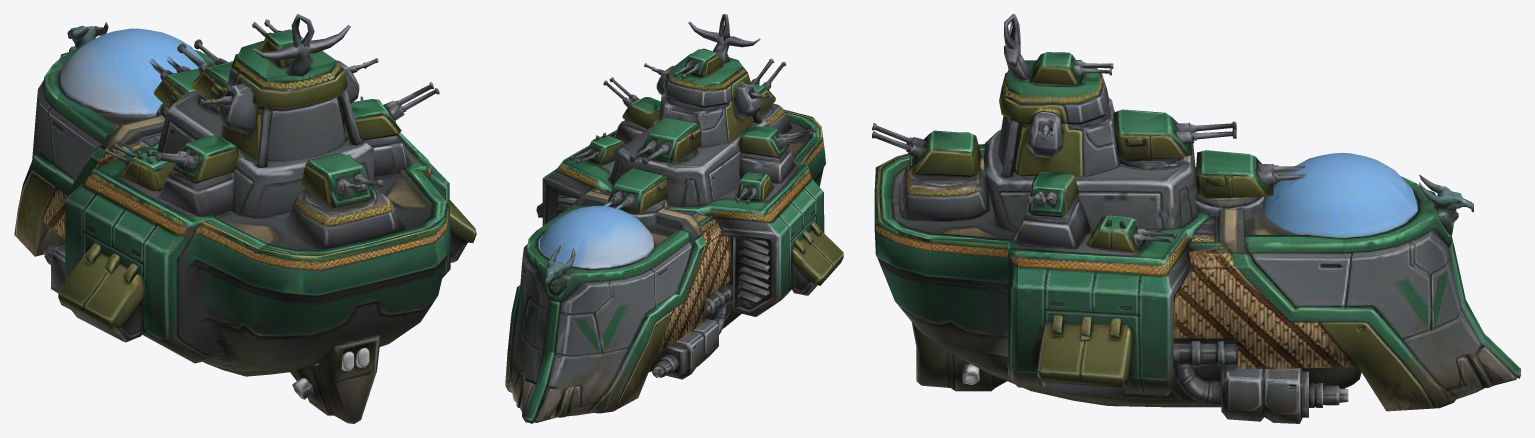
The model's file is emerald_gunboat.glb.
3 renders of one model, left to right at view 1: azimuth 30°, elevation 25°; view 2: azimuth 150°, elevation 25°; view 3: azimuth 270°, elevation 25°, orthographic. The views are drawn at different scales.
Parts seen in each view (by area): view 1: Body, Trim, Turret; view 2: Body, Turret, Trim; view 3: Body, Trim, Turret.
Boxes of the visible parts, x1=… form: Body: x1=14, y1=14, x2=476, y2=423; Trim: x1=44, y1=29, x2=448, y2=252; Turret: x1=121, y1=39, x2=227, y2=133; Body: x1=505, y1=14, x2=843, y2=423; Turret: x1=583, y1=135, x2=704, y2=222; Trim: x1=512, y1=49, x2=823, y2=420; Body: x1=872, y1=14, x2=1520, y2=423; Trim: x1=929, y1=52, x2=1520, y2=378; Turret: x1=1169, y1=117, x2=1280, y2=227.
Bounding box in the file's own units: 9.56 × 8.95 × 14.16.
Materials: 2 (2 with a texture image).
